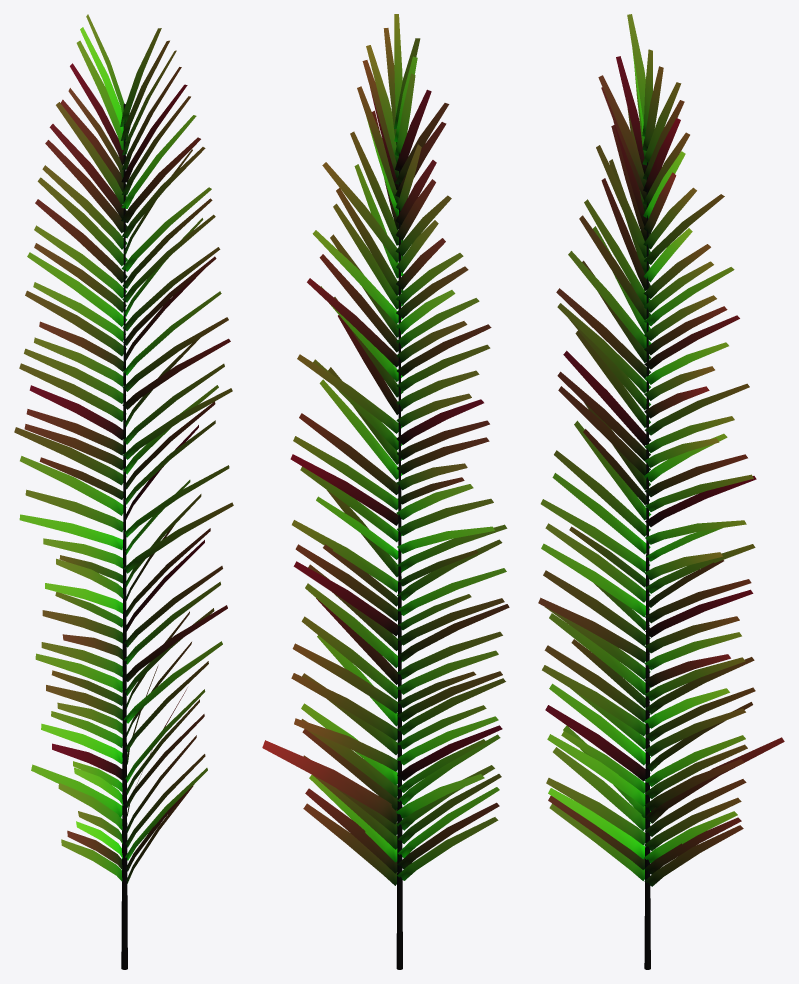
Rendered from Leafmap_Palm_3.fbx.
The picture shows the model from 3 angles, left to right: view 1: azimuth 30°, elevation 25°; view 2: azimuth 150°, elevation 25°; view 3: azimuth 330°, elevation 25°; orthographic projection.
Visible parts, largest first — view 1: Leafmap_Palm_3; view 2: Leafmap_Palm_3; view 3: Leafmap_Palm_3.
Part boxes in pixels (x1=…): Leafmap_Palm_3: x1=14, y1=14, x2=233, y2=969; Leafmap_Palm_3: x1=262, y1=14, x2=509, y2=969; Leafmap_Palm_3: x1=538, y1=14, x2=784, y2=969.
Size of the model in its own units: 665 by 2978 by 380.
